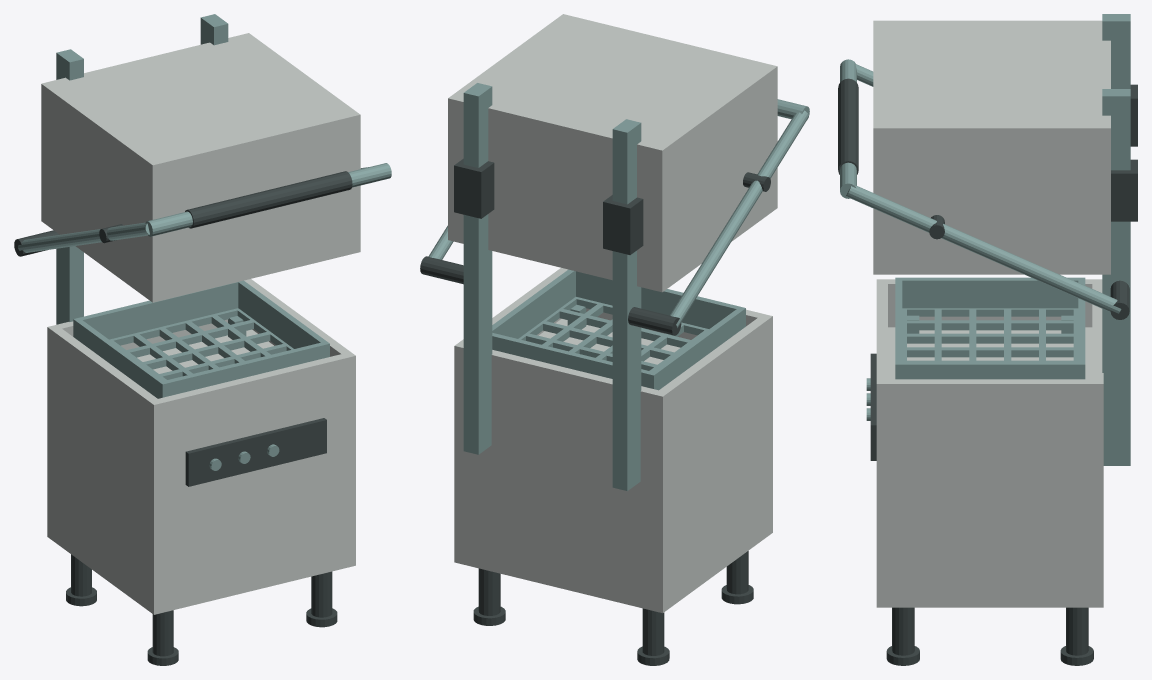
3 renders of one model, left to right at view 1: azimuth 30°, elevation 25°; view 2: azimuth 150°, elevation 25°; view 3: azimuth 270°, elevation 25°, orthographic. The views are drawn at different scales.
Parts seen in each view (by area): view 1: WholeLowerCabinetWithOpenSquareWell, WholeRaisedFourWallAndRoofHood, WholeOpenCellAndRaisedRimDishRack, WholeOpaqueBlankFrontControl, WholeDarkCrossHandleGrip, WholeRearVerticalGuide_-1, WholeLongInclinedHoodLiftArm_-1, WholeFrontCrossLiftHandle, WholeGroundLeg_(-0.275, -0.245), WholeGroundLeg_(0.275, -0.245), WholeRearVerticalGuide_1, WholeGroundLeg_(-0.275, 0.245); view 2: WholeLowerCabinetWithOpenSquareWell, WholeRaisedFourWallAndRoofHood, WholeOpenCellAndRaisedRimDishRack, WholeRearVerticalGuide_1, WholeRearVerticalGuide_-1, WholeLongInclinedHoodLiftArm_-1, WholeFixedHoodSlide_-1, WholeFixedHoodSlide_1, WholeGroundLeg_(-0.275, 0.245), WholeGroundLeg_(0.275, 0.245), WholeRearLiftArmPivot_-1, WholeRearLiftArmPivot_1 (+1 smaller); view 3: WholeLowerCabinetWithOpenSquareWell, WholeRaisedFourWallAndRoofHood, WholeOpenCellAndRaisedRimDishRack, WholeRearVerticalGuide_1, WholeLongInclinedHoodLiftArm_1, WholeDarkCrossHandleGrip, WholeRearVerticalGuide_-1, WholeFixedHoodSlide_1, WholeGroundLeg_(0.275, -0.245), WholeGroundLeg_(0.275, 0.245), WholeFrontCrossLiftHandle, WholeOpaqueBlankFrontControl (+2 smaller).
Boxes of the visible parts, <box> form: WholeLowerCabinetWithOpenSquareWell: <box>47,279,355,614</box>; WholeRaisedFourWallAndRoofHood: <box>41,33,360,302</box>; WholeOpenCellAndRaisedRimDishRack: <box>73,280,329,398</box>; WholeOpaqueBlankFrontControl: <box>185,418,326,486</box>; WholeDarkCrossHandleGrip: <box>185,171,352,228</box>; WholeRearVerticalGuide_-1: <box>56,49,83,324</box>; WholeLongInclinedHoodLiftArm_-1: <box>18,222,149,252</box>; WholeFrontCrossLiftHandle: <box>145,163,391,236</box>; WholeGroundLeg_(-0.275, -0.245): <box>152,610,173,656</box>; WholeGroundLeg_(0.275, -0.245): <box>311,571,332,617</box>; WholeRearVerticalGuide_1: <box>200,14,228,45</box>; WholeGroundLeg_(-0.275, 0.245): <box>71,554,91,596</box>; WholeLowerCabinetWithOpenSquareWell: <box>454,267,772,613</box>; WholeRaisedFourWallAndRoofHood: <box>448,14,777,292</box>; WholeOpenCellAndRaisedRimDishRack: <box>492,269,745,390</box>; WholeRearVerticalGuide_1: <box>463,83,492,454</box>; WholeRearVerticalGuide_-1: <box>612,119,641,490</box>; WholeLongInclinedHoodLiftArm_-1: <box>669,110,808,327</box>; WholeFixedHoodSlide_-1: <box>603,195,643,254</box>; WholeFixedHoodSlide_1: <box>454,158,494,218</box>; WholeGroundLeg_(-0.275, 0.245): <box>642,608,664,655</box>; WholeGroundLeg_(0.275, 0.245): <box>478,568,500,615</box>; WholeRearLiftArmPivot_-1: <box>628,307,681,335</box>; WholeRearLiftArmPivot_1: <box>420,256,463,284</box>; WholeLowerCabinetWithOpenSquareWell: <box>876,279,1103,607</box>; WholeRaisedFourWallAndRoofHood: <box>873,20,1110,274</box>; WholeOpenCellAndRaisedRimDishRack: <box>895,277,1085,379</box>; WholeRearVerticalGuide_1: <box>1102,89,1130,465</box>; WholeLongInclinedHoodLiftArm_1: <box>846,185,1121,313</box>; WholeDarkCrossHandleGrip: <box>838,78,858,174</box>; WholeRearVerticalGuide_-1: <box>1102,14,1130,88</box>; WholeFixedHoodSlide_1: <box>1111,159,1137,221</box>; WholeGroundLeg_(0.275, -0.245): <box>892,607,914,655</box>; WholeGroundLeg_(0.275, 0.245): <box>1066,607,1088,655</box>; WholeFrontCrossLiftHandle: <box>840,59,856,198</box>; WholeOpaqueBlankFrontControl: <box>870,353,876,460</box>.
Bounding box in the file's own units: 0.858 × 1.75 × 0.845.
